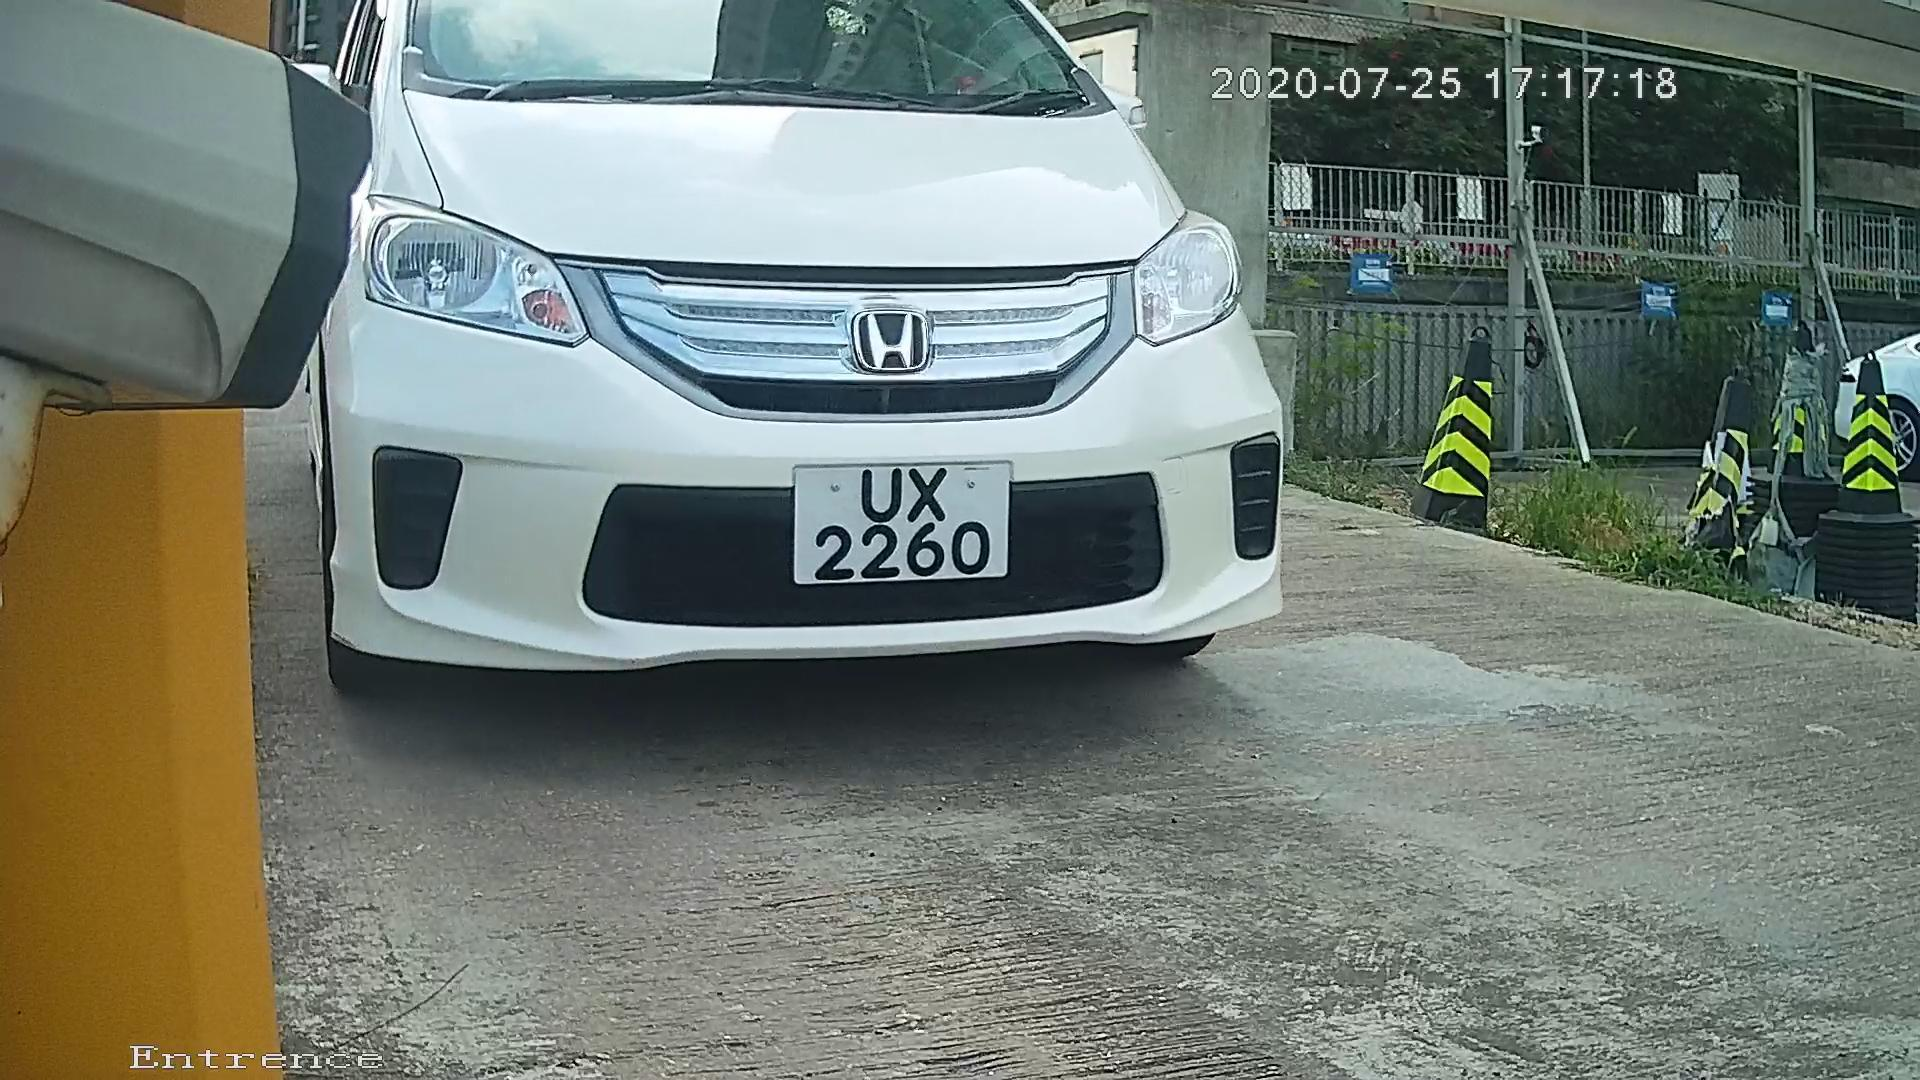privatecar: (258, 20, 1441, 724)
